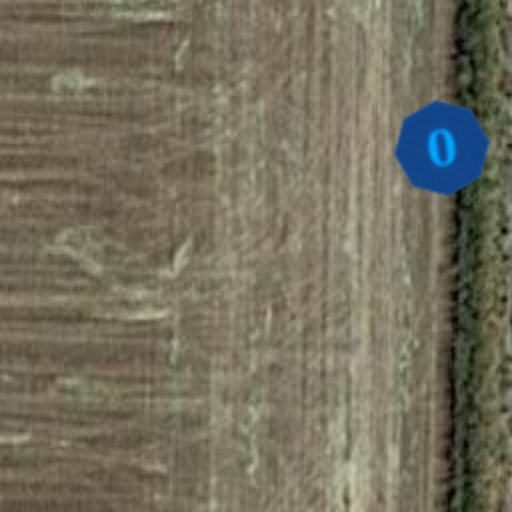octagon: (386, 92, 498, 204)
